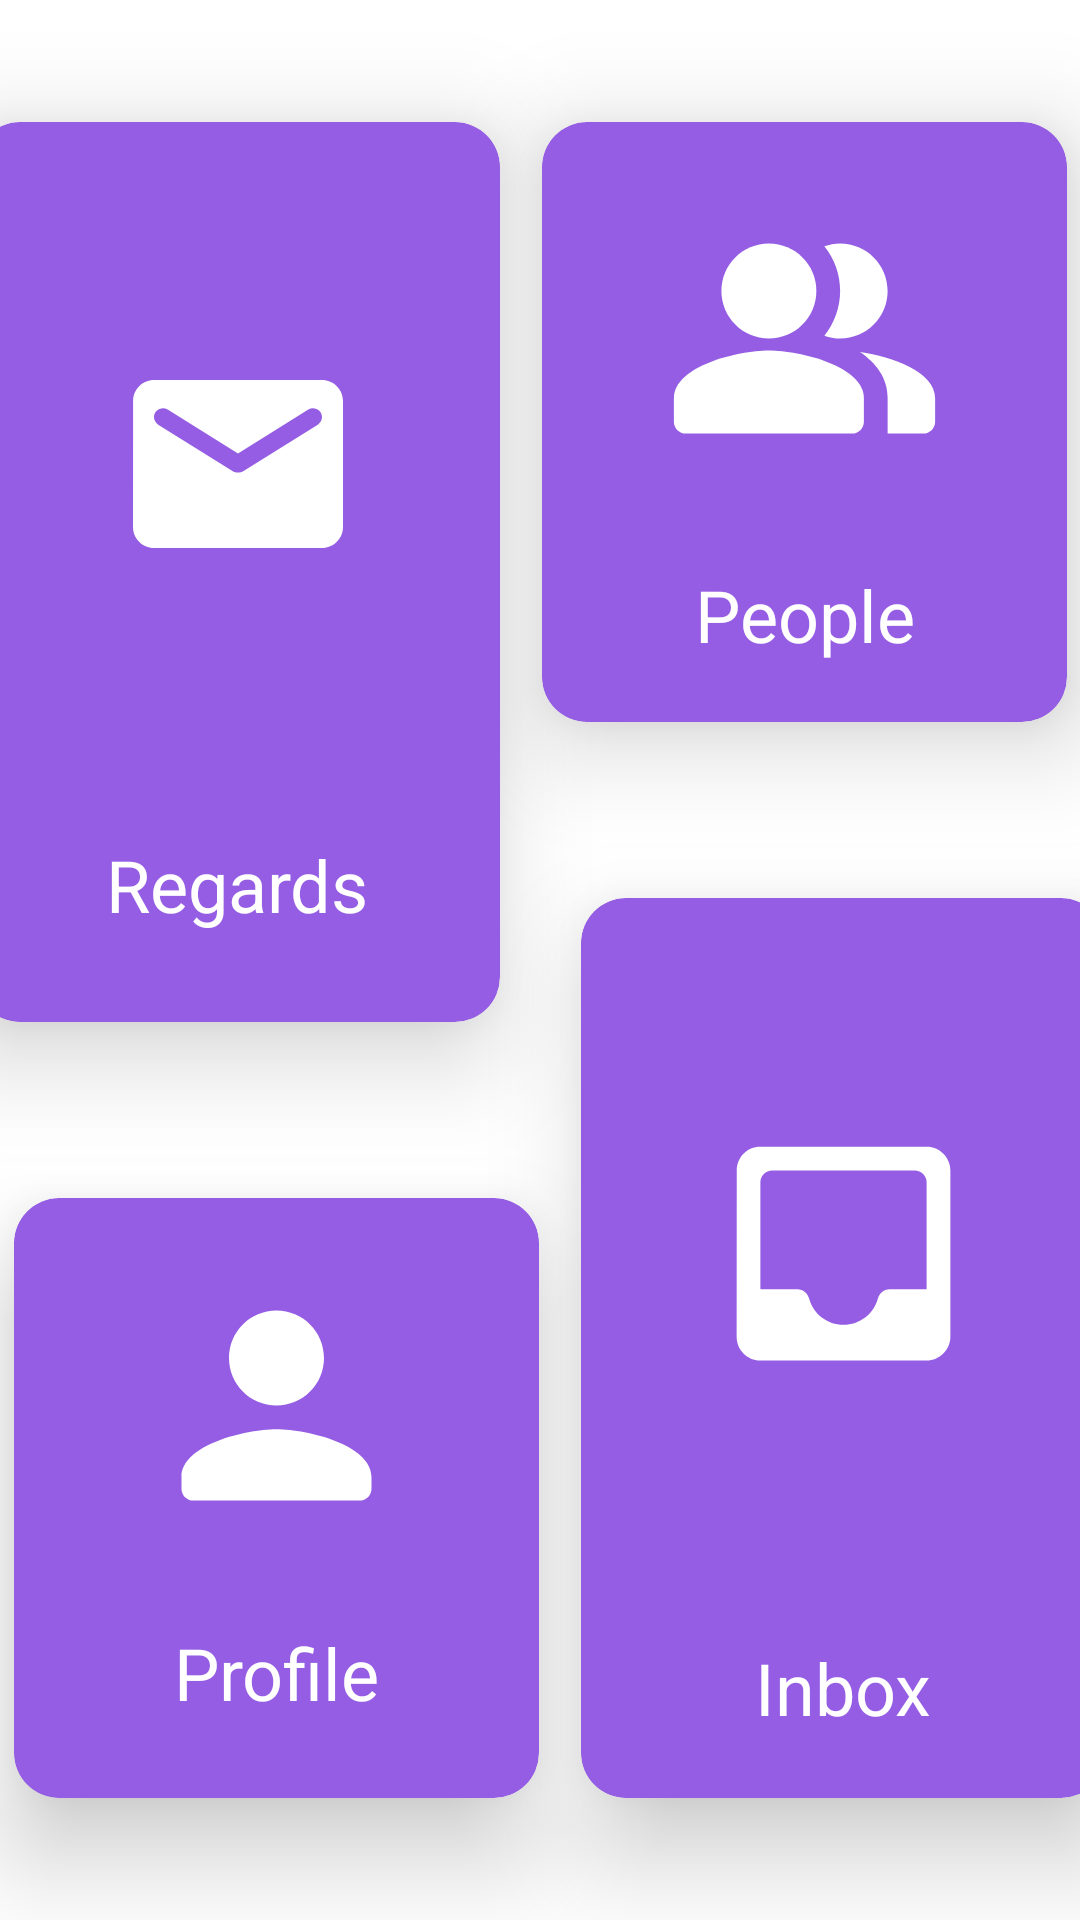

Locate icon controls on the screen. Image size 1080×1920, boxes as [x1,y1,x2,y2].
email: [133,380,343,548]
